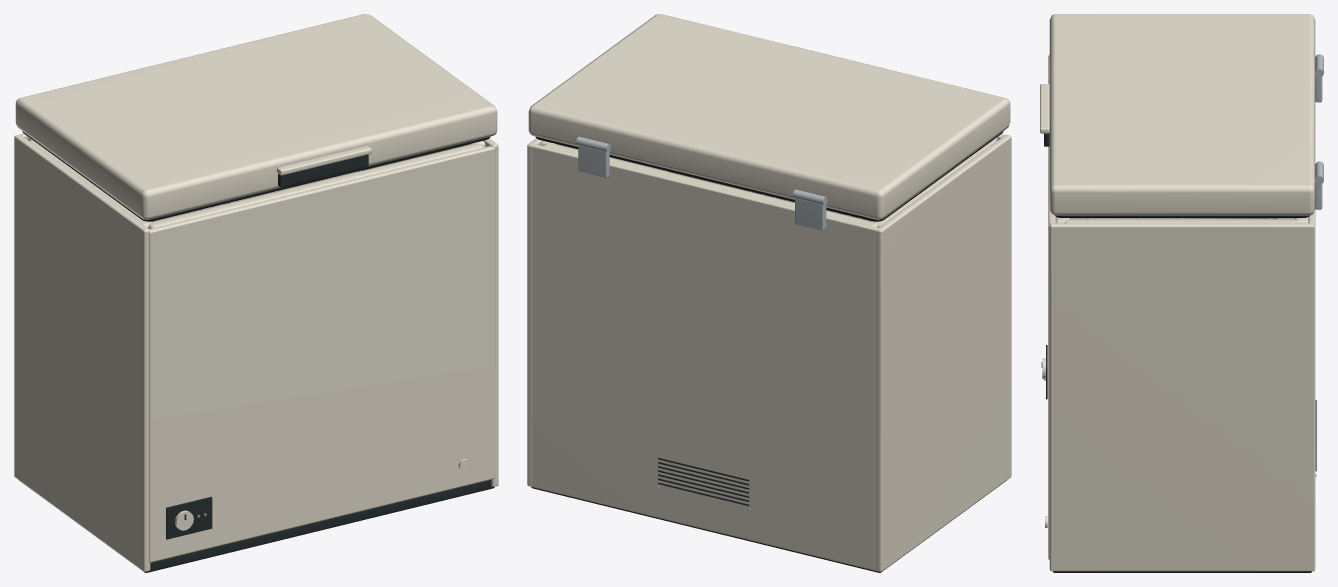
The model's file is kitchen-chest-freezer.glb.
The picture shows the model from 3 angles, left to right: view 1: azimuth 30°, elevation 25°; view 2: azimuth 150°, elevation 25°; view 3: azimuth 270°, elevation 25°; orthographic projection.
Parts seen in each view (by area): view 1: catalog_surface_RealismUV, catalog_surface_UVMap; view 2: catalog_surface_RealismUV, catalog_surface_UVMap; view 3: catalog_surface_RealismUV, catalog_surface_UVMap.
Part boxes in pixels (x1=…): catalog_surface_RealismUV: x1=14, y1=14, x2=498, y2=571; catalog_surface_UVMap: x1=19, y1=154, x2=494, y2=572; catalog_surface_RealismUV: x1=527, y1=14, x2=1011, y2=571; catalog_surface_UVMap: x1=531, y1=458, x2=1006, y2=572; catalog_surface_RealismUV: x1=1040, y1=14, x2=1323, y2=571; catalog_surface_UVMap: x1=1041, y1=133, x2=1316, y2=572.
Size of the model in its own units: 0.82 by 0.85 by 0.56.
